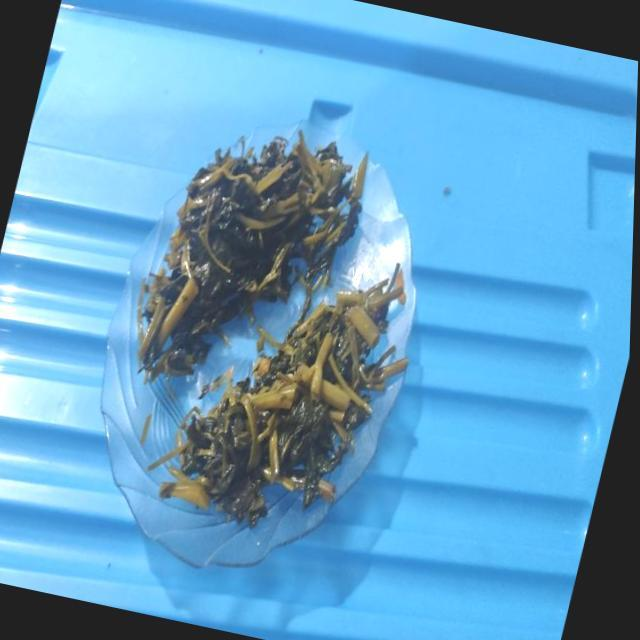tumis_kangkung: (158, 262, 408, 528), (137, 128, 367, 381)
